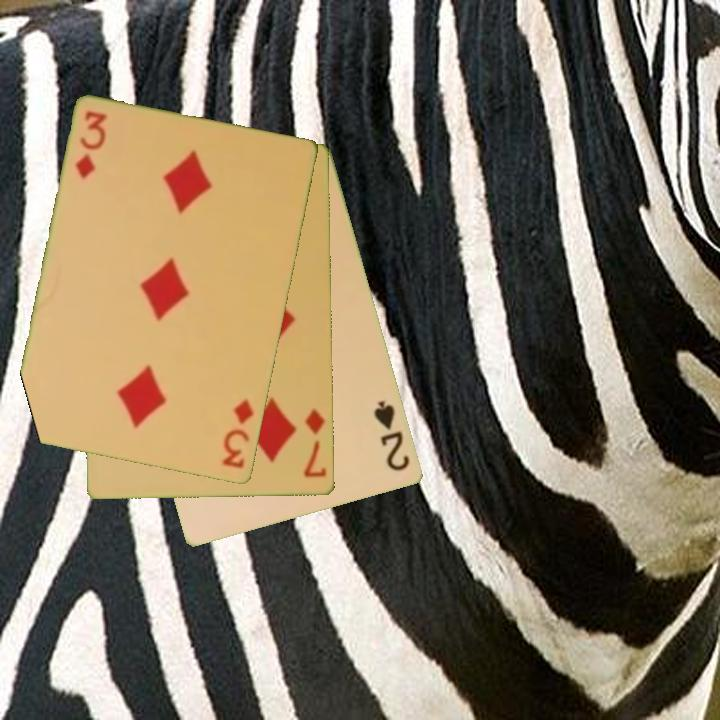2s: (370, 397, 413, 474)
3d: (219, 395, 257, 472), (72, 107, 111, 182)
7d: (301, 405, 330, 481)
